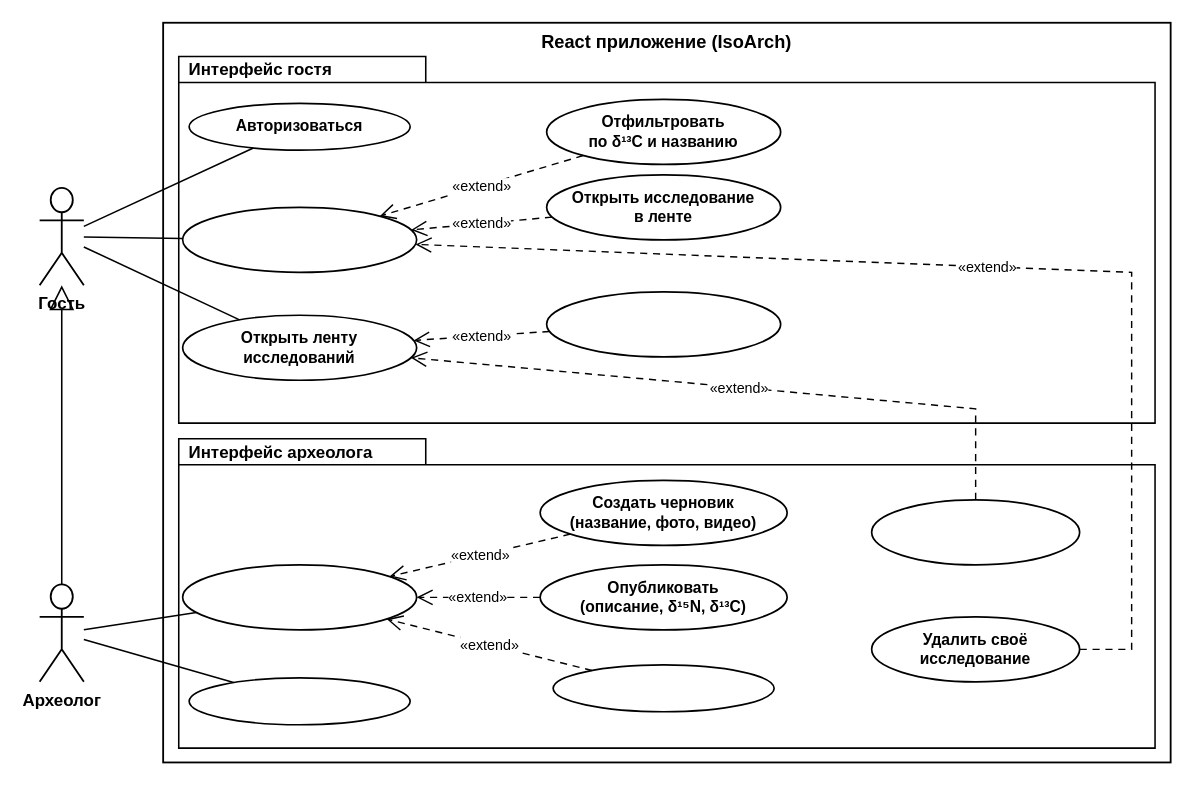
This 1193x787 diagram has some shape labels left out. Here are the shapes that lost their labels. From the top down, the centre of each, then its label:
the point at 299,239: Открыть плитку исследований
the point at 663,323: Перейти к следующему исследованию
the point at 975,531: Поставить / снять лайк
the point at 299,596: Открыть черновик на странице добавления
the point at 299,701: Выйти из системы
the point at 663,688: Удалить черновик
